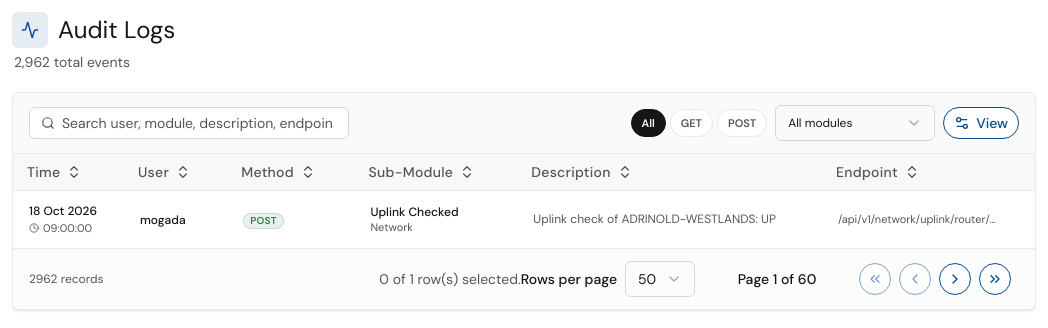
Test: AuditLogsClient › filters on the server and starts again from the first page
Click the button "POST" at x=742, y=123, box [717,109,767,137]
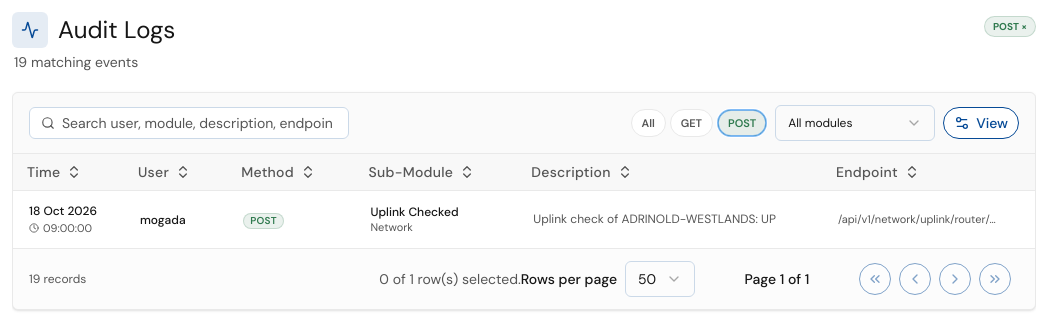
Now the text "19 matching events" is shown, box [14,53,138,71]
